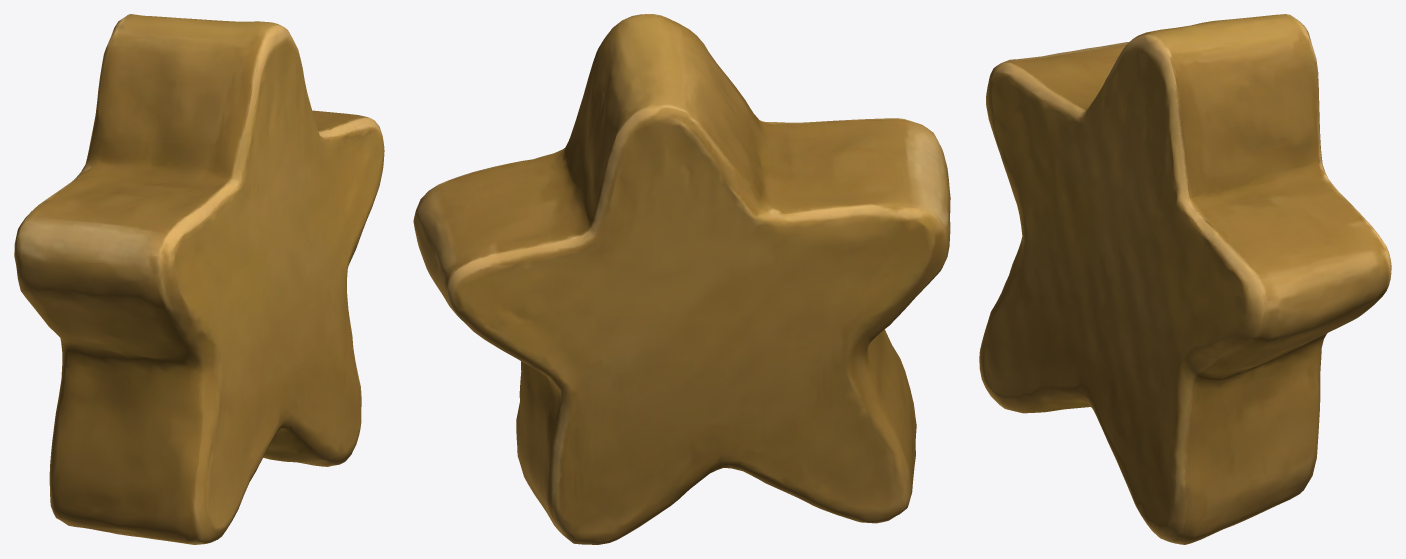
File: token-star.glb
3 views of the same model, side by side, from view 1: azimuth 30°, elevation 25°; view 2: azimuth 150°, elevation 25°; view 3: azimuth 270°, elevation 25° (orthographic). The views are drawn at different scales.
Parts seen in each view (by area): view 1: geometry_0; view 2: geometry_0; view 3: geometry_0.
Boxes of the visible parts, x1=… form: geometry_0: x1=14, y1=14, x2=384, y2=544; geometry_0: x1=413, y1=14, x2=950, y2=544; geometry_0: x1=979, y1=14, x2=1391, y2=544.
Bounding box in the file's own units: 0.8631 × 0.8724 × 0.6971.
Materials: 1 (1 with a texture image).
